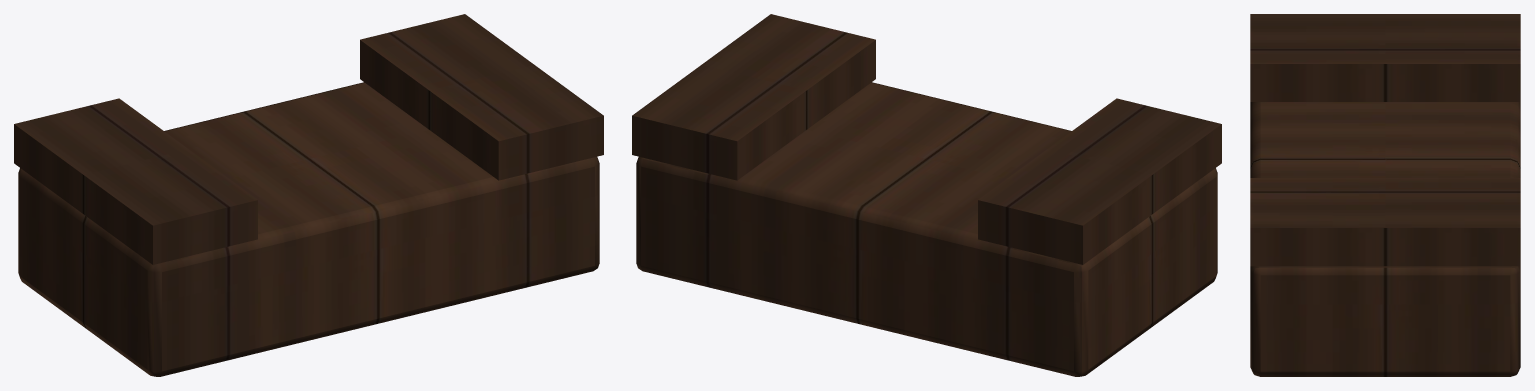
Rendered from mokchim.glb.
3 views of the same model, side by side, from view 1: azimuth 30°, elevation 25°; view 2: azimuth 150°, elevation 25°; view 3: azimuth 270°, elevation 25° (orthographic). The views are drawn at different scales.
Visible parts, largest first — view 1: Mokchim; view 2: Mokchim; view 3: Mokchim.
Boxes of the visible parts, left/top/right/bottom form: Mokchim: left=14, top=14, right=603, bottom=376; Mokchim: left=632, top=14, right=1221, bottom=376; Mokchim: left=1250, top=14, right=1520, bottom=376.
Size of the model in its own units: 0.3 by 0.1 by 0.16.
Materials: 1 (1 with a texture image).
